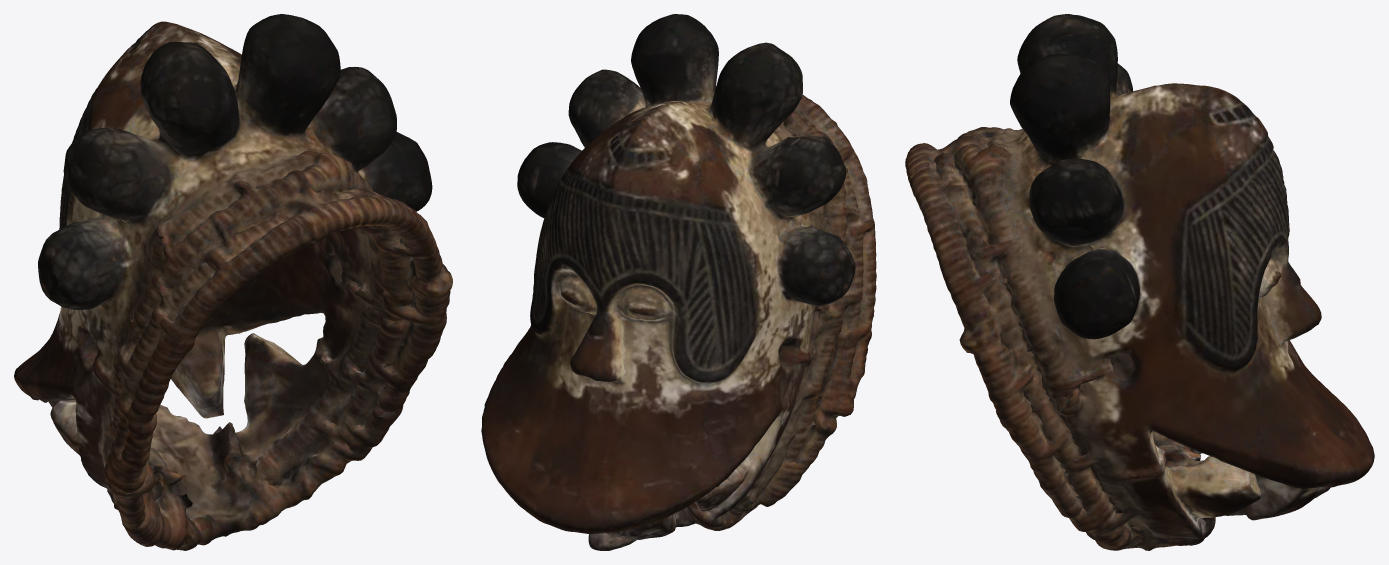
The model's file is preview.glb.
The picture shows the model from 3 angles, left to right: view 1: azimuth 30°, elevation 25°; view 2: azimuth 150°, elevation 25°; view 3: azimuth 270°, elevation 25°; orthographic projection. The views are drawn at different scales.
Visible parts, largest first — view 1: Object_2; view 2: Object_2; view 3: Object_2.
Part boxes in pixels (<box>): Object_2: <box>14,14,452,550</box>; Object_2: <box>481,14,876,550</box>; Object_2: <box>905,14,1374,550</box>.
Bounding box in the file's own units: 213 × 291 × 249.
Materials: 1 (1 with a texture image).
